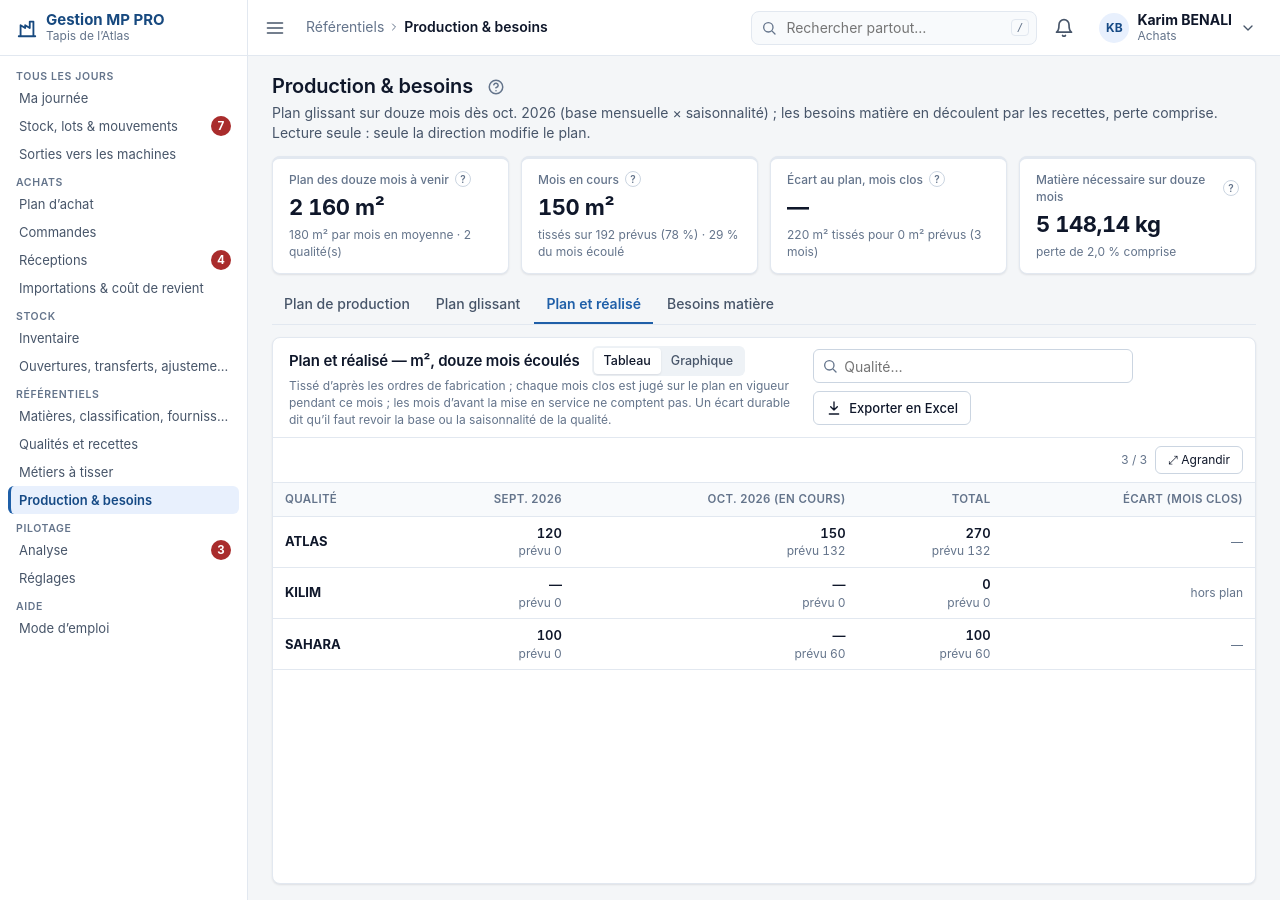
Production › Plan et réalisé › un clic sur une qualité ouvre son graphique
(page scrolled)
What coordinates should you click on to do the following:
click the text "ATLAS"
I would click on:
 (306, 541)
Its box is [285,533,328,549].
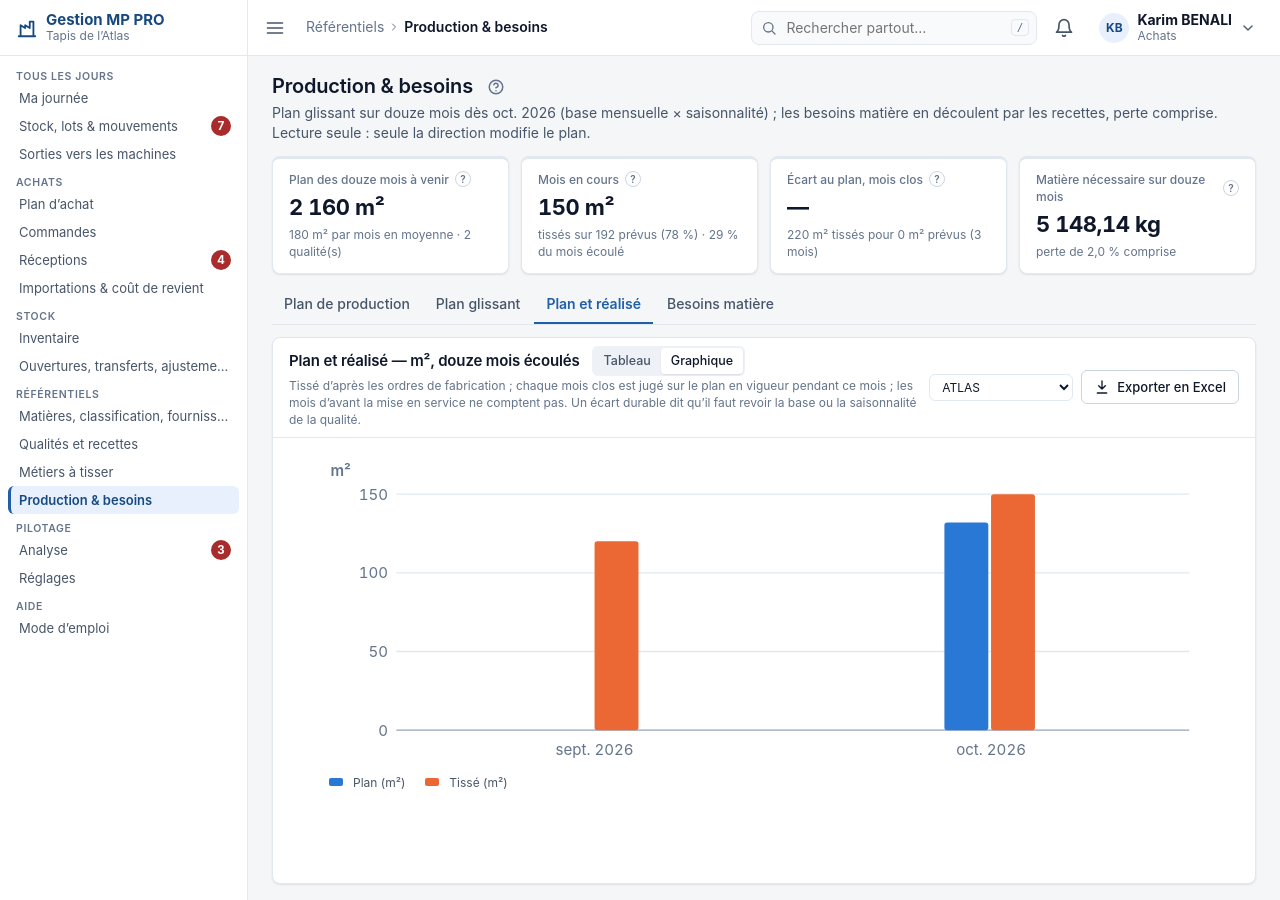
Check: the element named "Plan et tissé de ATLAS" is shown, box [325,464,1203,791]
